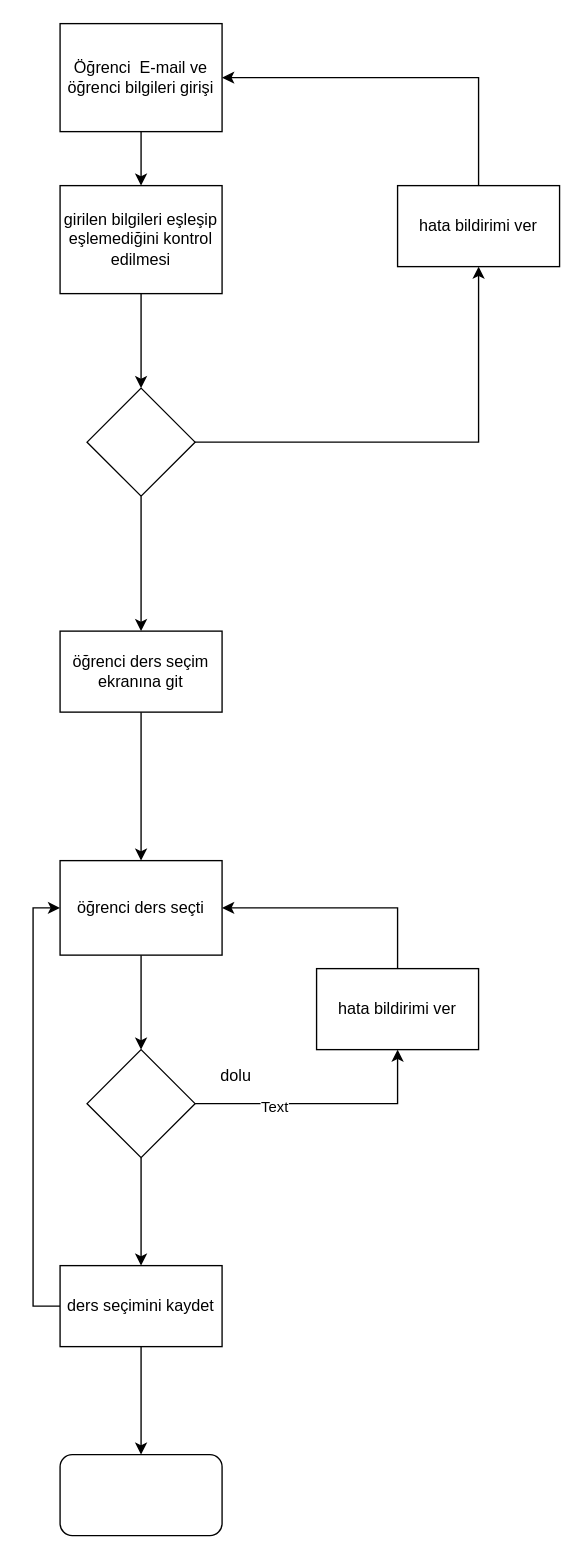
The diagram is 583 pixels wide and 1559 high, and some of its shapes have lost their labels. Each missing label, with the box of its shape:
bitiş: (59, 1453, 222, 1536)
kredi barajı: (86, 1048, 195, 1158)
uyuşma var mı?: (86, 387, 195, 496)
